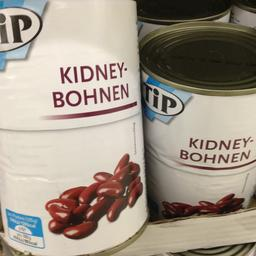beans: (0, 0, 139, 254), (140, 12, 254, 214)
